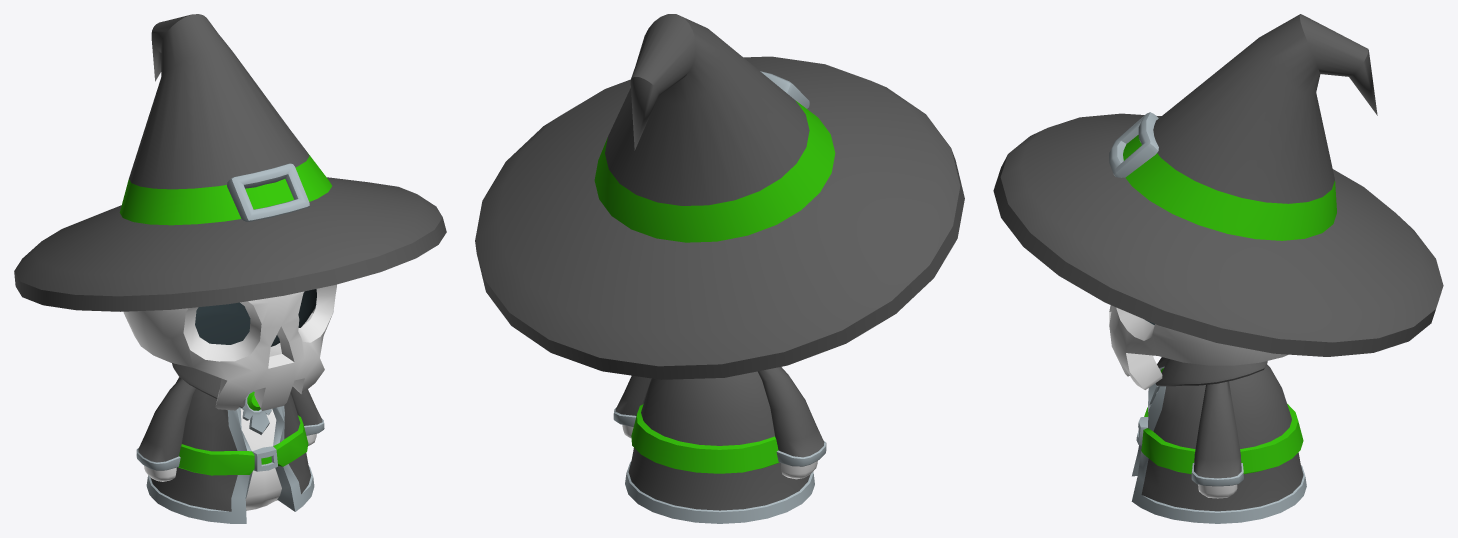
The model's file is enemy_skeletonMage.fbx.
The picture shows the model from 3 angles, left to right: view 1: azimuth 30°, elevation 25°; view 2: azimuth 150°, elevation 25°; view 3: azimuth 270°, elevation 25°; orthographic projection. The views are drawn at different scales.
Parts seen in each view (by area): view 1: character_mageHat, enemy_skeletonMage, enemy_skeletonMage_head, enemy_skeletonMage_ArmRight, enemy_skeletonMage_ArmLeft; view 2: character_mageHat, enemy_skeletonMage, enemy_skeletonMage_ArmRight, enemy_skeletonMage_ArmLeft; view 3: character_mageHat, enemy_skeletonMage, enemy_skeletonMage_head, enemy_skeletonMage_ArmLeft.
Boxes of the visible parts, <box> form: character_mageHat: <box>14,14,446,311</box>; enemy_skeletonMage: <box>146,363,314,523</box>; enemy_skeletonMage_head: <box>123,284,336,410</box>; enemy_skeletonMage_ArmRight: <box>136,378,196,481</box>; enemy_skeletonMage_ArmLeft: <box>290,386,324,445</box>; character_mageHat: <box>475,14,964,379</box>; enemy_skeletonMage: <box>625,367,814,523</box>; enemy_skeletonMage_ArmRight: <box>757,367,826,479</box>; enemy_skeletonMage_ArmLeft: <box>613,375,651,438</box>; character_mageHat: <box>993,14,1443,356</box>; enemy_skeletonMage: <box>1131,357,1306,523</box>; enemy_skeletonMage_head: <box>1109,305,1287,389</box>; enemy_skeletonMage_ArmLeft: <box>1191,381,1243,498</box>.
Bounding box in the file's own units: 2.1 × 2.38 × 2.05.
